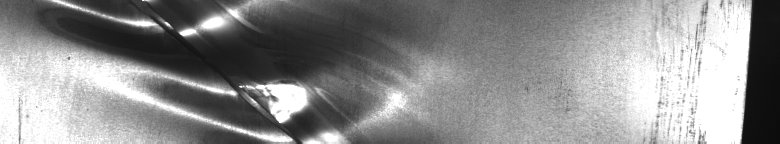ke: (53, 4, 342, 136)
